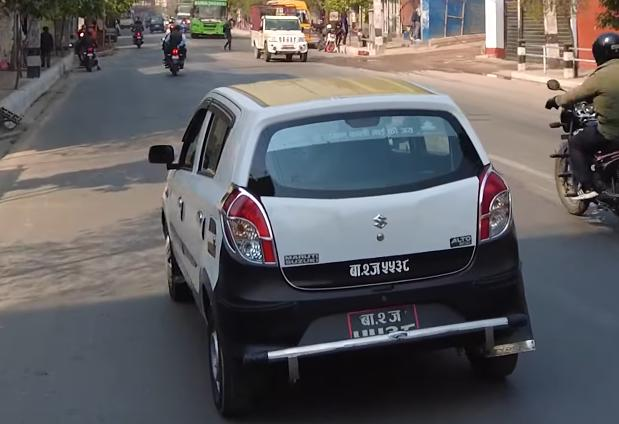bike: (541, 75, 619, 226), (158, 34, 191, 79), (76, 41, 100, 74), (130, 26, 147, 49)
bus: (188, 1, 232, 41)
taxi: (137, 69, 550, 424)
transport_vehicle: (250, 6, 313, 64)
